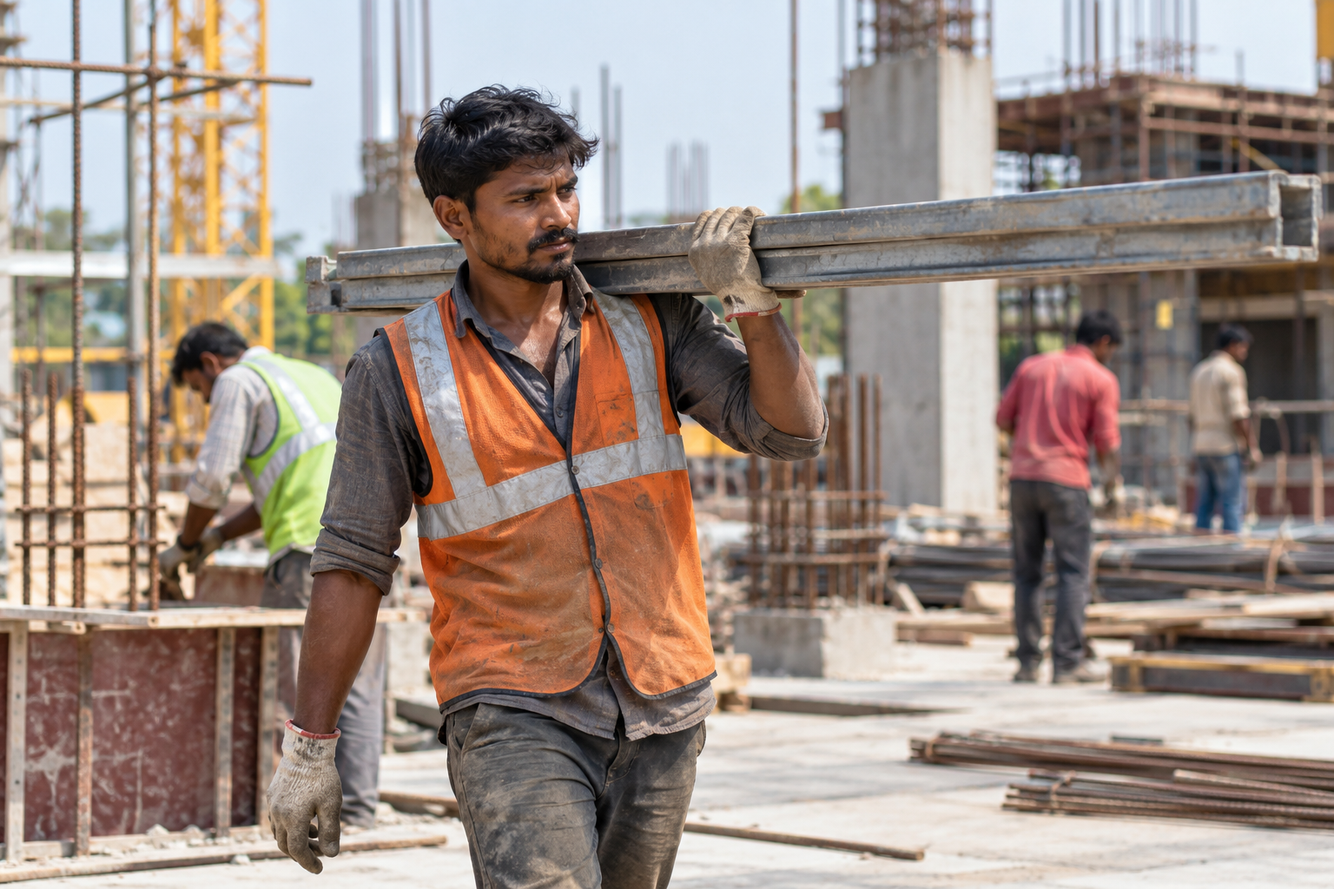no_hardhat: (398, 77, 614, 181), (1051, 303, 1137, 339), (1189, 317, 1263, 355), (184, 327, 234, 377)
no_safety_vest: (1015, 349, 1099, 490), (1183, 355, 1263, 459)
person: (282, 81, 791, 876), (973, 297, 1143, 716), (172, 321, 350, 650), (1167, 293, 1287, 552)
safety_vest: (390, 335, 732, 726), (248, 363, 330, 566)
